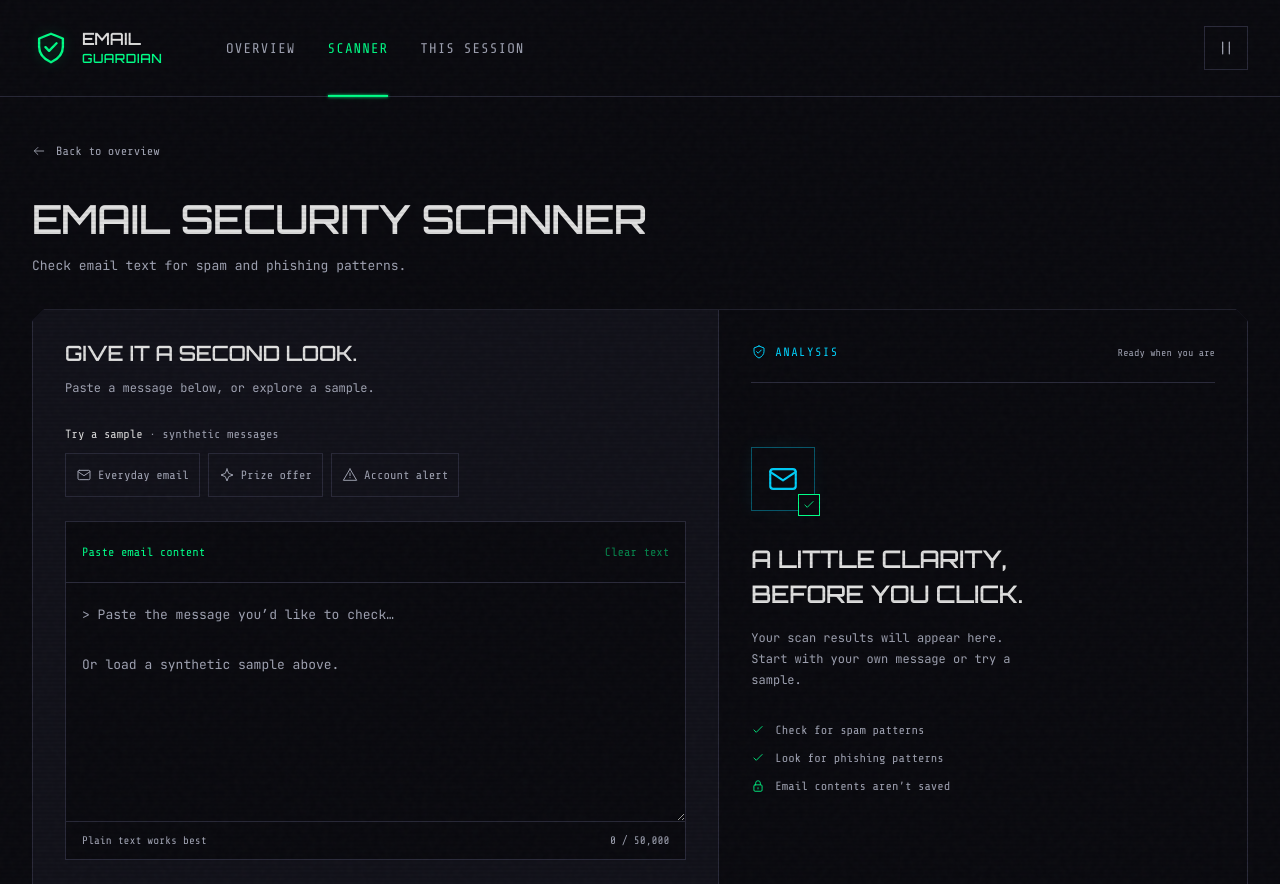
Test: correctly displays legit and safe email
Replace the text in the text box labelled "Paste email content" with "PRIVATE_INPUT_MARKER" at (376, 702), box [66, 583, 685, 821]
(page scrolled)
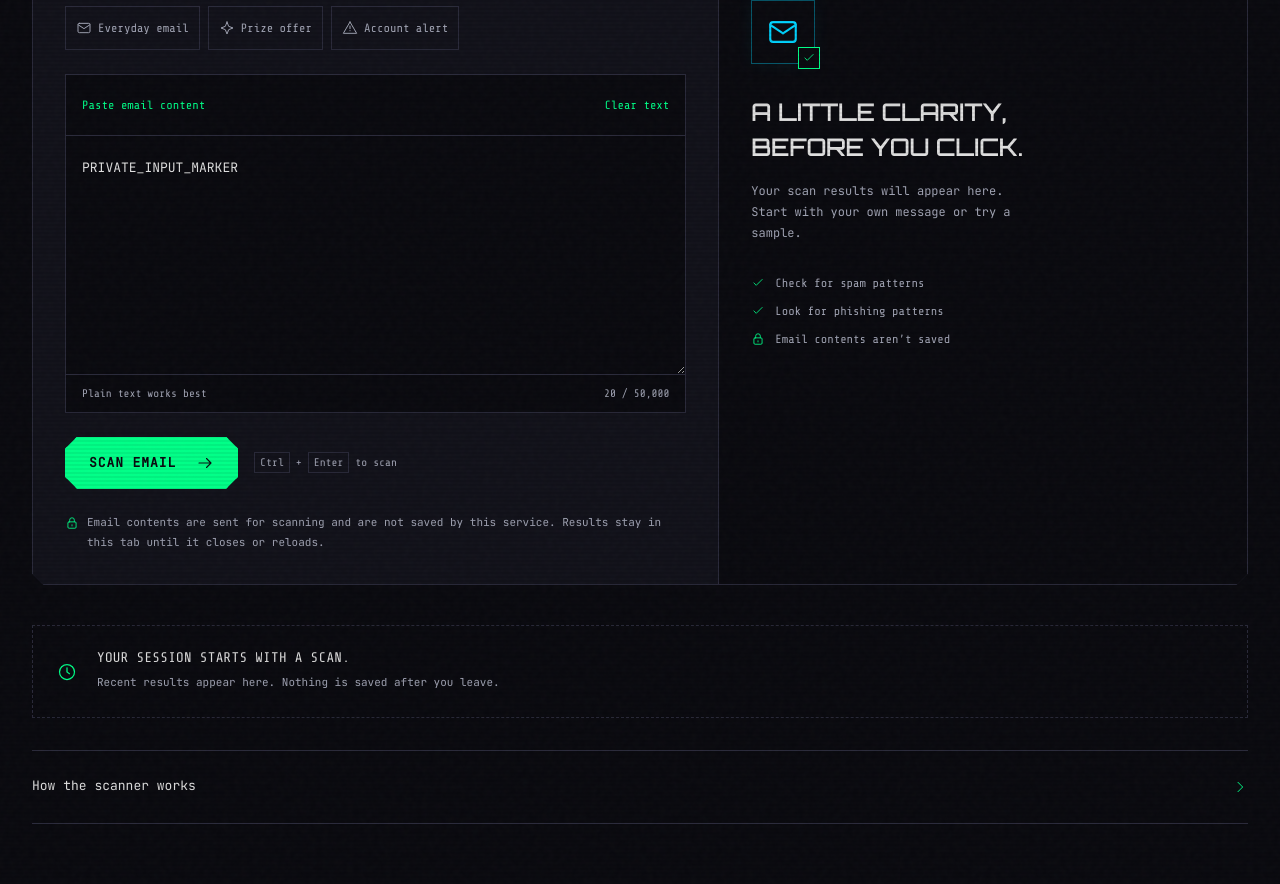
Click the button "Scan Email" at (152, 463), box [65, 437, 238, 489]
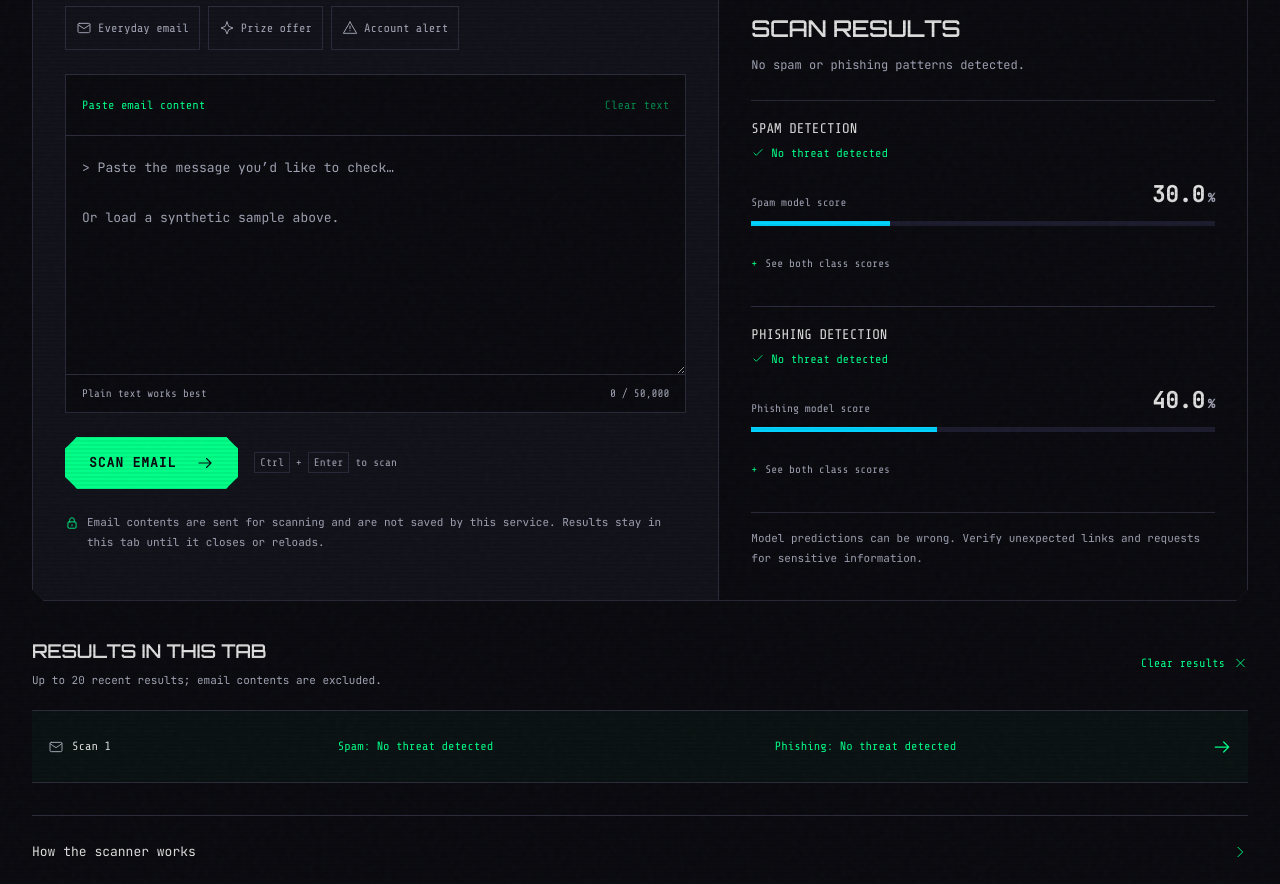
Now the heading "Scan results" is shown, box [751, 15, 960, 42]
Now the text box labelled "Paste email content" is empty, box [66, 136, 685, 374]
Click the button "Clear results" at (1194, 663), box [1141, 641, 1248, 685]
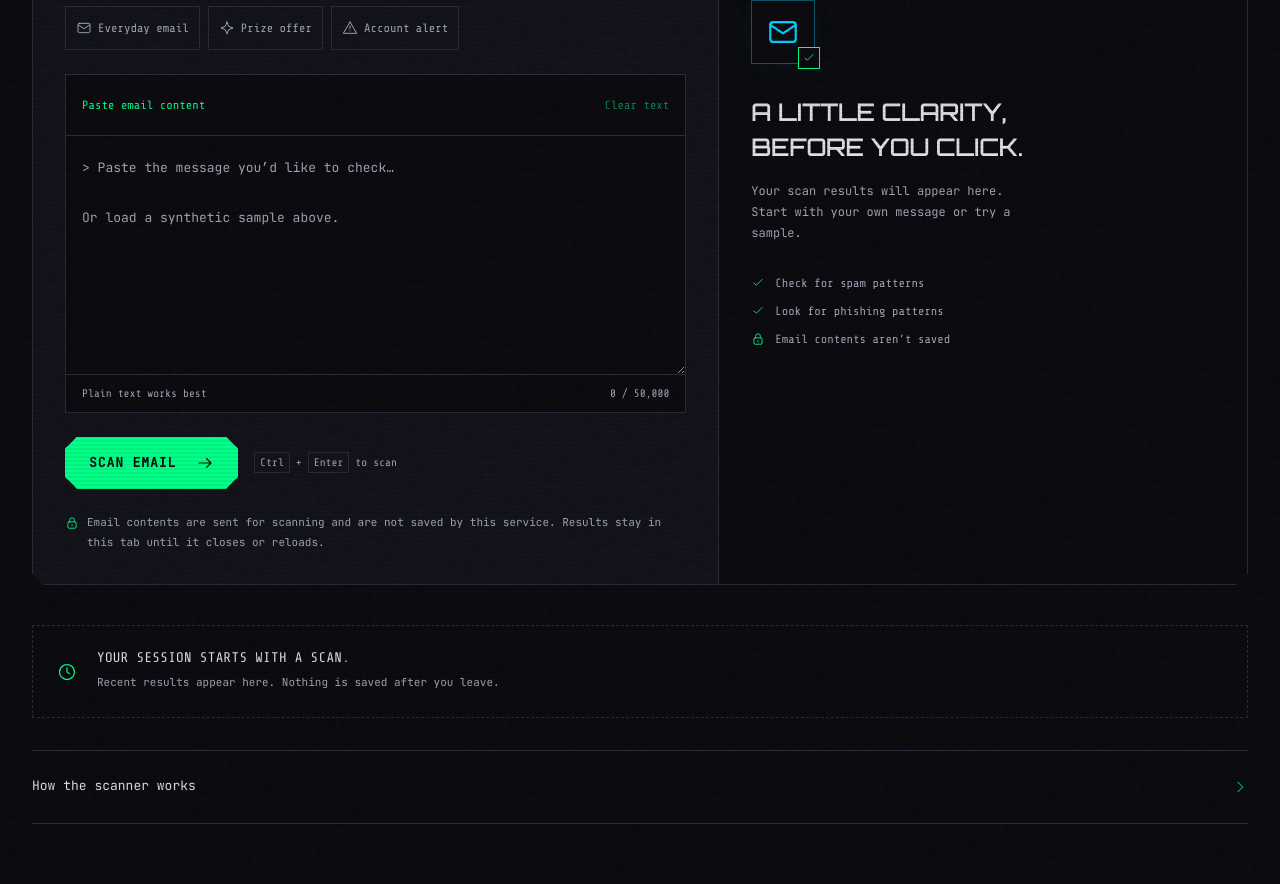
Now the heading "Results in this tab" is gone
